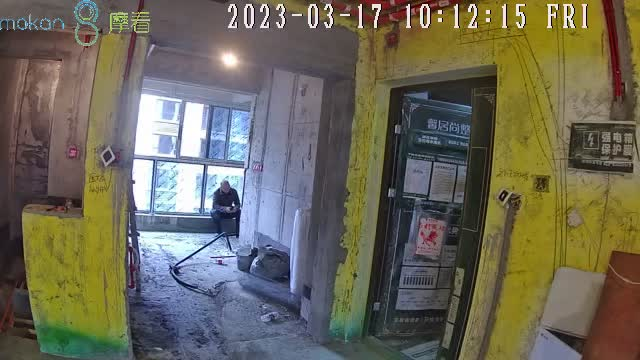people: (212, 180, 242, 235)
window: (134, 92, 253, 218)
